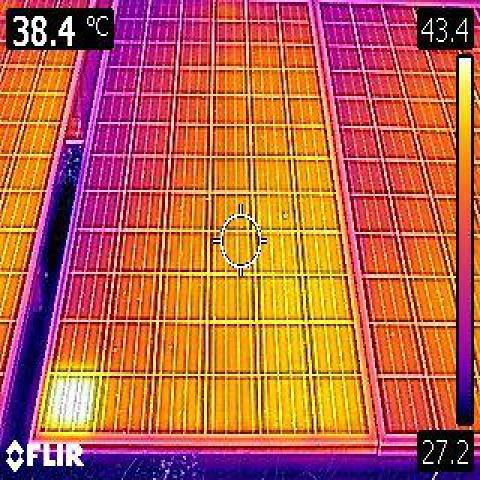fault: (51, 378, 92, 429)
